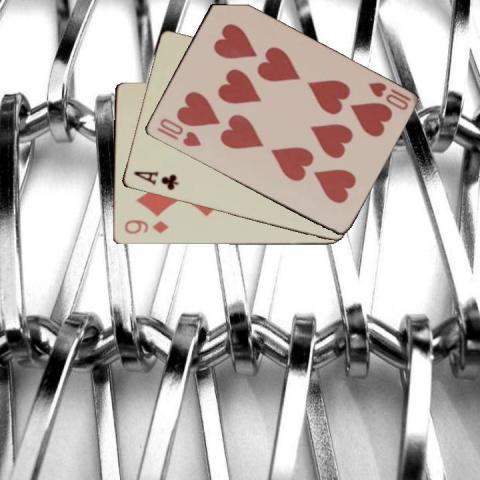10h: (153, 115, 202, 149), (365, 79, 412, 112)
9d: (121, 218, 170, 235)
Ac: (131, 168, 179, 192)
